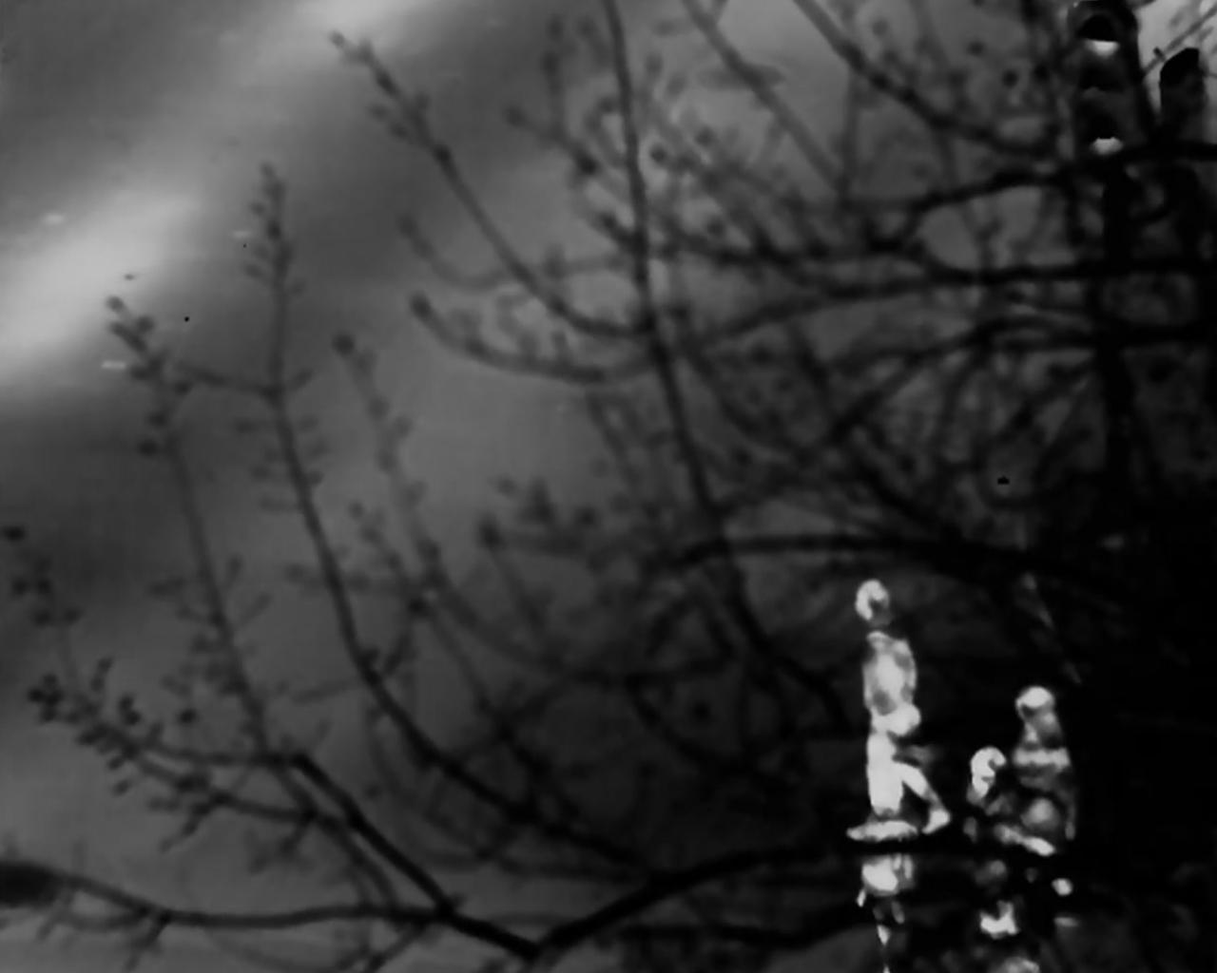person: (830, 570, 960, 851), (976, 686, 1072, 916)
